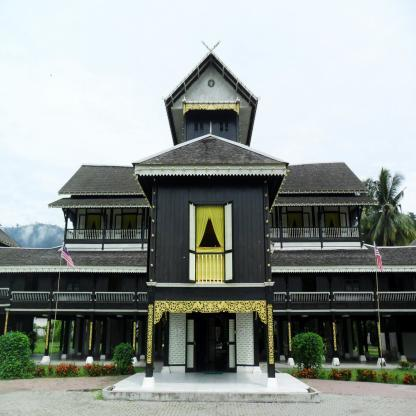Balcony: (270, 227, 361, 239), (67, 227, 148, 239)
Blind: (187, 200, 197, 284), (224, 200, 234, 283), (77, 214, 87, 243), (317, 212, 327, 241), (338, 213, 348, 241), (302, 213, 311, 241), (99, 214, 107, 243), (114, 214, 122, 243), (135, 214, 143, 243), (281, 213, 289, 241)
Building Outline: (0, 40, 416, 389)
Dont: (50, 242, 75, 358), (0, 330, 45, 380), (82, 342, 135, 378), (291, 330, 326, 378), (374, 240, 384, 374)
Door: (187, 313, 235, 373), (85, 214, 101, 243), (121, 215, 137, 243), (288, 213, 303, 241), (325, 213, 340, 241), (302, 274, 317, 301), (24, 274, 39, 301), (108, 275, 121, 301)
Facade: (83, 166, 346, 374)
Floor: (0, 176, 416, 302), (270, 206, 360, 239), (67, 208, 150, 239)
Floor Slab: (0, 286, 416, 312), (270, 239, 360, 244), (65, 239, 149, 244), (184, 148, 240, 152)
Ground Floor: (164, 301, 259, 374)
Molding: (154, 301, 267, 325), (135, 163, 286, 177), (0, 265, 147, 274), (271, 265, 416, 274), (183, 103, 239, 116), (48, 205, 151, 209), (273, 203, 378, 206), (278, 191, 369, 194), (59, 193, 144, 196)
Roof: (48, 121, 379, 206), (162, 40, 262, 147), (0, 245, 147, 266), (271, 245, 415, 266)
Top Floor: (184, 98, 240, 148)
Window: (197, 205, 224, 282), (66, 274, 80, 294), (345, 274, 359, 293), (219, 113, 229, 132), (194, 113, 204, 132)
